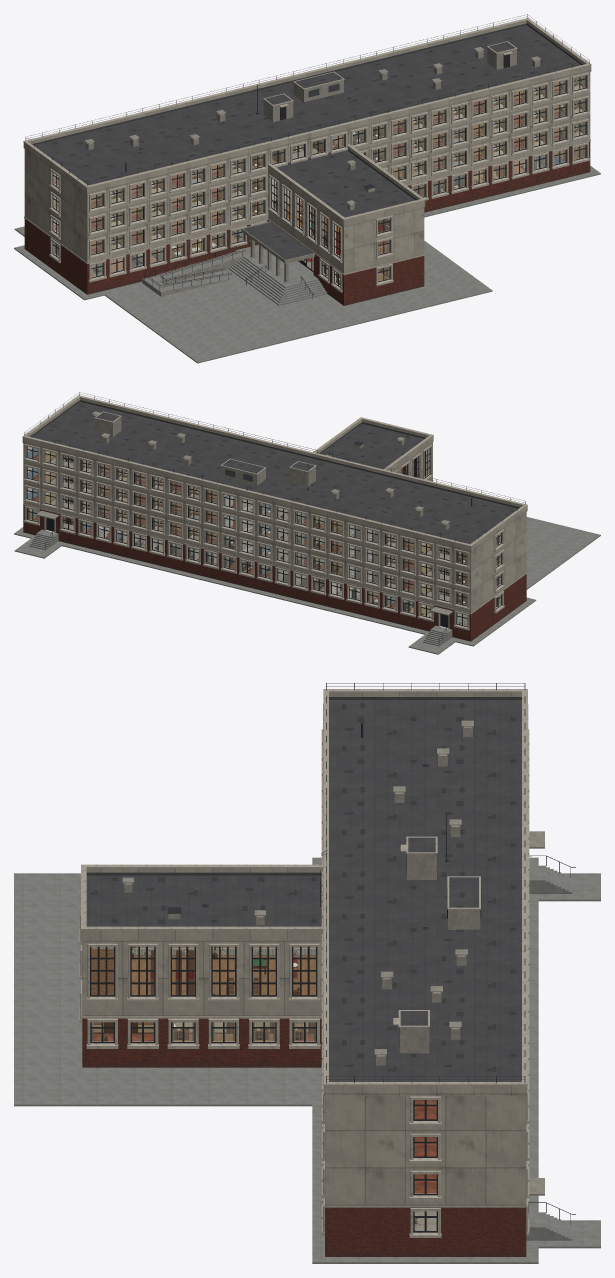
Rendered from sanatorium.glb.
3 views of the same model, one above another, from view 1: azimuth 30°, elevation 25°; view 2: azimuth 150°, elevation 25°; view 3: azimuth 270°, elevation 25° (orthographic). The views are drawn at different scales.
Visible parts, largest first — view 1: Roof_Surfaces, MainWing_Walls, Site_Paving, MainWing_Window_Surrounds, Facade_Trim, EntranceBlock_Walls, MainWing_Window_Frames, Roof_Structures, Entrance_Landing_Stairs, EntranceBlock_Window_Surrounds, Ramp_Structure, Roof_Railing (+6 smaller); view 2: Roof_Surfaces, MainWing_Walls, MainWing_Window_Surrounds, Facade_Trim, MainWing_Window_Frames, Site_Paving, Roof_Structures, Roof_Railing, RearExit_Porches, MainWing_Window_Glass, Shell_L0_STAIR2, Stair3_Flights (+2 smaller); view 3: Roof_Surfaces, Site_Paving, MainWing_Walls, Facade_Trim, EntranceBlock_Walls, Roof_Structures, EntranceBlock_Window_Surrounds, EntranceBlock_Window_Frames, MainWing_Window_Surrounds, Shell_L1_EB_HALL, RearExit_Porches, Roof_Railing (+3 smaller).
Part boxes in pixels (bbox=[...]): Roof_Surfaces: bbox=[34, 25, 581, 217]; MainWing_Walls: bbox=[24, 72, 590, 294]; Site_Paving: bbox=[14, 166, 600, 363]; MainWing_Window_Surrounds: bbox=[49, 72, 589, 282]; Facade_Trim: bbox=[23, 18, 591, 275]; EntranceBlock_Walls: bbox=[268, 172, 424, 305]; MainWing_Window_Frames: bbox=[52, 75, 586, 278]; Roof_Structures: bbox=[84, 41, 541, 210]; Entrance_Landing_Stairs: bbox=[228, 244, 327, 305]; EntranceBlock_Window_Surrounds: bbox=[268, 175, 424, 292]; Ramp_Structure: bbox=[142, 251, 243, 296]; Roof_Railing: bbox=[25, 14, 589, 186]; Roof_Surfaces: bbox=[31, 401, 518, 544]; MainWing_Walls: bbox=[23, 443, 526, 641]; MainWing_Window_Surrounds: bbox=[24, 444, 504, 630]; Facade_Trim: bbox=[22, 395, 527, 628]; MainWing_Window_Frames: bbox=[26, 446, 501, 626]; Site_Paving: bbox=[14, 517, 600, 654]; Roof_Structures: bbox=[92, 411, 472, 529]; Roof_Railing: bbox=[24, 392, 525, 543]; RearExit_Porches: bbox=[29, 510, 452, 646]; MainWing_Window_Glass: bbox=[28, 473, 466, 604]; Shell_L0_STAIR2: bbox=[421, 542, 449, 616]; Stair3_Flights: bbox=[49, 456, 73, 525]; Roof_Surfaces: bbox=[86, 700, 521, 1081]; Site_Paving: bbox=[14, 857, 600, 1263]; MainWing_Walls: bbox=[325, 1095, 526, 1256]; Facade_Trim: bbox=[81, 689, 527, 1207]; EntranceBlock_Walls: bbox=[82, 941, 321, 1067]; Roof_Structures: bbox=[122, 720, 481, 1065]; EntranceBlock_Window_Surrounds: bbox=[79, 903, 320, 1048]; EntranceBlock_Window_Frames: bbox=[90, 946, 317, 1043]; MainWing_Window_Surrounds: bbox=[321, 704, 529, 1237]; Shell_L1_EB_HALL: bbox=[91, 946, 315, 994]; RearExit_Porches: bbox=[526, 831, 572, 1240]; Roof_Railing: bbox=[326, 683, 525, 1083].
Size of the model in its own units: 77 by 19 by 47.2.
Materials: 34 (30 with a texture image).
